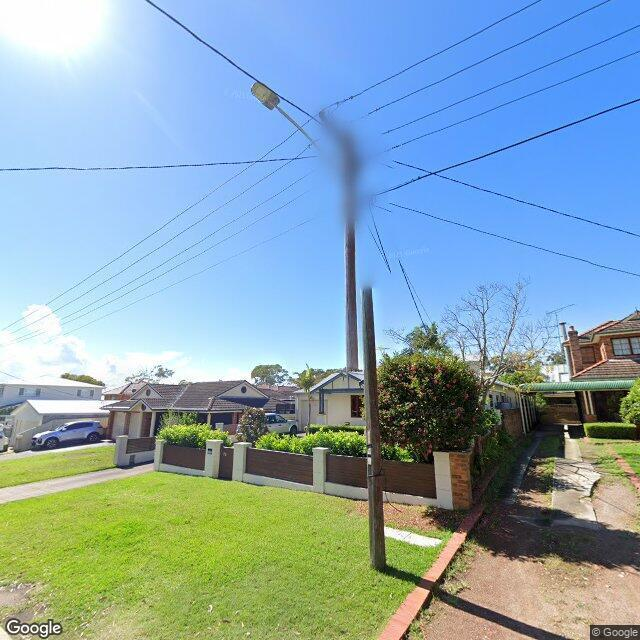streetlight: (249, 77, 321, 155)
timber-pole: (341, 132, 386, 571)
